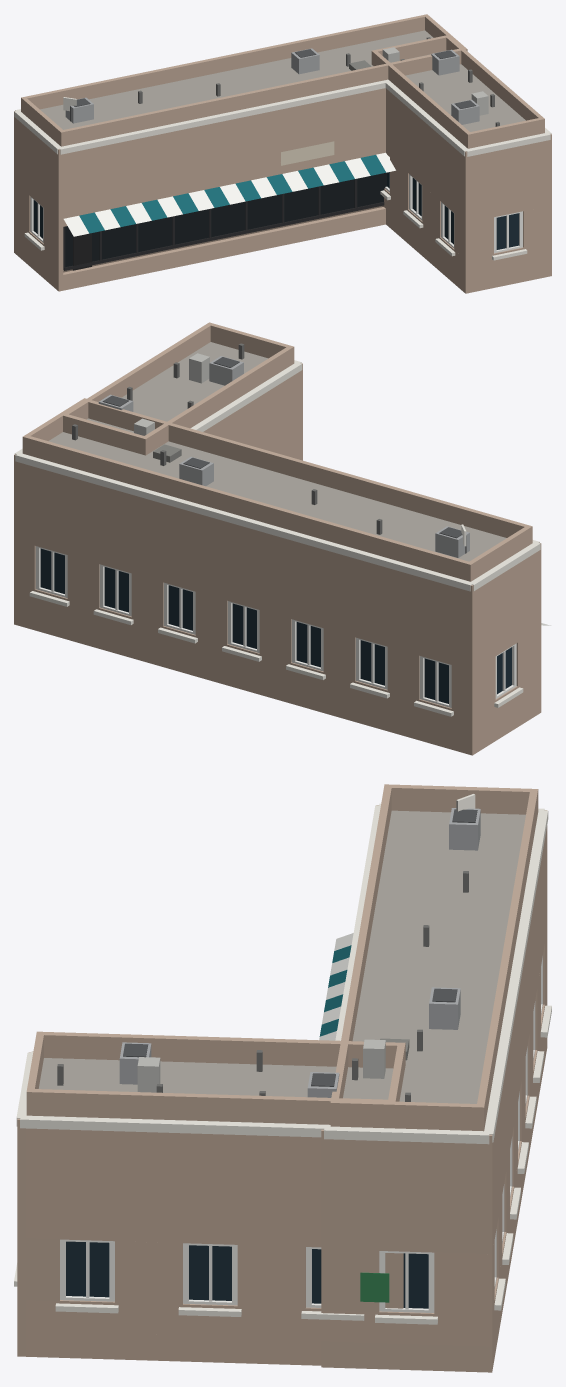
3 renders of one model, top to bottom at view 1: azimuth 30°, elevation 25°; view 2: azimuth 150°, elevation 25°; view 3: azimuth 270°, elevation 25°, orthographic. The views are drawn at different scales.
Parts seen in each view (by area): view 1: b1217_opaque, b1217_glass; view 2: b1217_opaque, b1217_glass; view 3: b1217_opaque, b1217_glass.
Part boxes in pixels (x1=…): b1217_opaque: x1=14, y1=14, x2=551, y2=293; b1217_glass: x1=33, y1=172, x2=518, y2=266; b1217_opaque: x1=14, y1=322, x2=551, y2=755; b1217_glass: x1=40, y1=548, x2=511, y2=703; b1217_opaque: x1=14, y1=784, x2=551, y2=1372; b1217_glass: x1=66, y1=1241, x2=428, y2=1308.
Bounding box in the file's own units: 8160 × 3140 × 5564.
